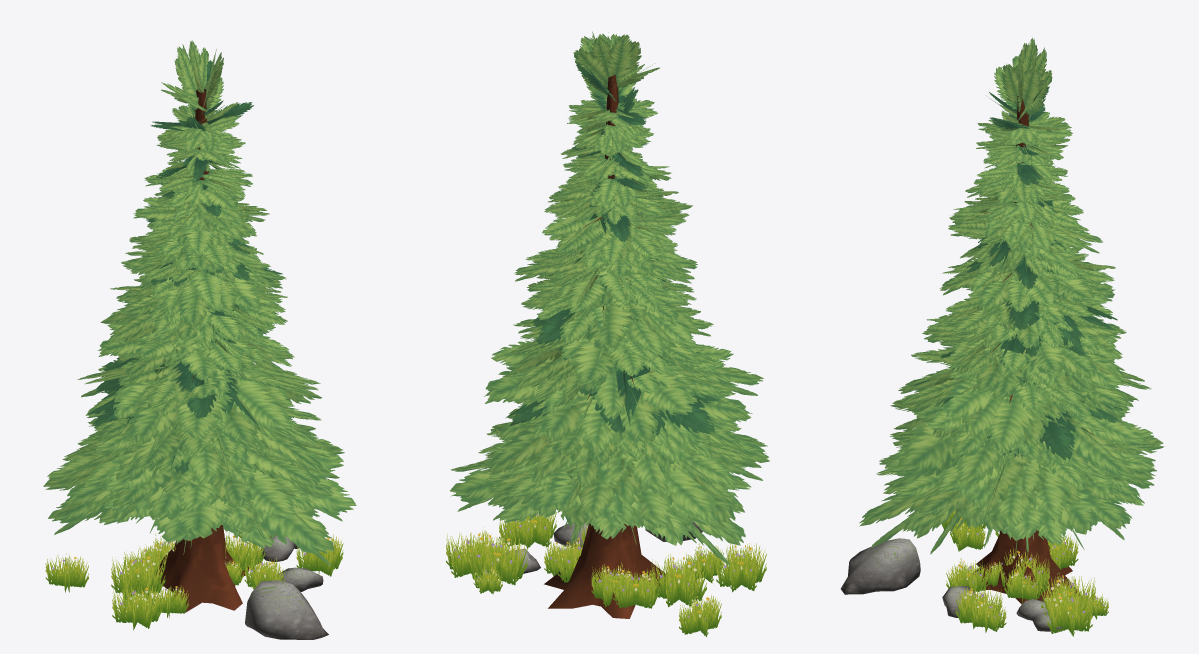
Rendered from pine_green.glb.
3 views of the same model, side by side, from view 1: azimuth 30°, elevation 25°; view 2: azimuth 150°, elevation 25°; view 3: azimuth 270°, elevation 25° (orthographic). The views are drawn at different scales.
Visible parts, largest first — view 1: A1_PineFoliage_LP, A1_PineTrunk_LP, A1_Pebble0, A1_GrassTuft1, A1_GrassTuft14, A1_GrassTuft12, A1_GrassTuft11, A1_GrassTuft3, A1_GrassTuft2, A1_Pebble2, A1_GrassTuft8, A1_Pebble1; view 2: A1_PineFoliage_LP, A1_PineTrunk_LP, A1_GrassTuft6, A1_GrassTuft1, A1_GrassTuft14, A1_GrassTuft13, A1_GrassTuft12, A1_GrassTuft4, A1_GrassTuft11, A1_GrassTuft15, A1_GrassTuft2, A1_GrassTuft8 (+3 smaller); view 3: A1_PineFoliage_LP, A1_Pebble0, A1_PineTrunk_LP, A1_GrassTuft4, A1_GrassTuft6, A1_GrassTuft11, A1_GrassTuft3, A1_GrassTuft7, A1_GrassTuft8, A1_GrassTuft9, A1_GrassTuft2, A1_Pebble2.
Boxes of the visible parts, bbox=[...] form: A1_PineFoliage_LP: bbox=[43, 40, 356, 566]; A1_PineTrunk_LP: bbox=[156, 89, 249, 612]; A1_Pebble0: bbox=[245, 580, 328, 639]; A1_GrassTuft1: bbox=[111, 551, 165, 599]; A1_GrassTuft14: bbox=[112, 583, 162, 629]; A1_GrassTuft12: bbox=[45, 553, 88, 592]; A1_GrassTuft11: bbox=[296, 534, 342, 576]; A1_GrassTuft3: bbox=[244, 556, 285, 589]; A1_GrassTuft2: bbox=[149, 585, 188, 618]; A1_Pebble2: bbox=[278, 567, 323, 591]; A1_GrassTuft8: bbox=[224, 531, 250, 570]; A1_Pebble1: bbox=[261, 535, 294, 561]; A1_PineFoliage_LP: bbox=[450, 31, 769, 565]; A1_PineTrunk_LP: bbox=[544, 75, 666, 618]; A1_GrassTuft6: bbox=[468, 530, 527, 585]; A1_GrassTuft1: bbox=[651, 553, 706, 607]; A1_GrassTuft14: bbox=[716, 543, 766, 592]; A1_GrassTuft13: bbox=[612, 568, 659, 608]; A1_GrassTuft12: bbox=[679, 593, 721, 636]; A1_GrassTuft4: bbox=[446, 527, 495, 579]; A1_GrassTuft11: bbox=[512, 511, 556, 548]; A1_GrassTuft15: bbox=[591, 562, 633, 607]; A1_GrassTuft2: bbox=[685, 543, 723, 583]; A1_GrassTuft8: bbox=[557, 537, 583, 582]; A1_PineFoliage_LP: bbox=[859, 38, 1164, 554]; A1_Pebble0: bbox=[840, 538, 920, 594]; A1_PineTrunk_LP: bbox=[967, 96, 1092, 604]; A1_GrassTuft4: bbox=[1044, 587, 1092, 636]; A1_GrassTuft6: bbox=[1041, 572, 1095, 615]; A1_GrassTuft11: bbox=[955, 586, 1002, 629]; A1_GrassTuft3: bbox=[946, 557, 988, 593]; A1_GrassTuft7: bbox=[1004, 570, 1042, 603]; A1_GrassTuft8: bbox=[1004, 548, 1049, 592]; A1_GrassTuft9: bbox=[970, 599, 1006, 632]; A1_GrassTuft2: bbox=[950, 517, 985, 551]; A1_Pebble2: bbox=[942, 586, 976, 617].
Size of the model in its own units: 4.46 by 7.78 by 4.52.
Materials: 4 (4 with a texture image).
